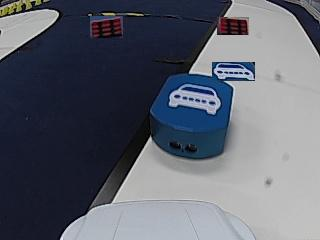safety: (168, 83, 223, 114)
